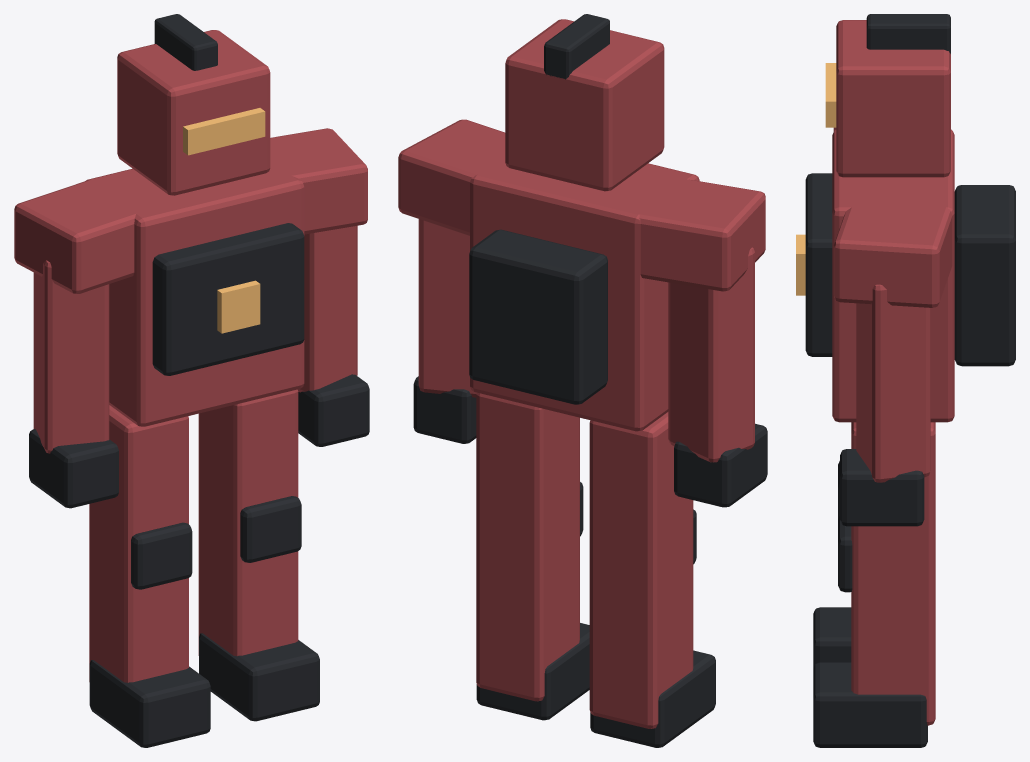
The model's file is EnemyTrooper.fbx.
3 renders of one model, left to right at view 1: azimuth 30°, elevation 25°; view 2: azimuth 150°, elevation 25°; view 3: azimuth 270°, elevation 25°, orthographic. The views are drawn at different scales.
Parts seen in each view (by area): view 1: Torso, LegR, LegL, Head, ChestPlate, ArmL, PauldronL, ArmR, BootL, BootR, PauldronR, ClawL (+6 smaller); view 2: LegR, LegL, Torso, Backpack, Head, ArmL, PauldronL, ArmR, PauldronR, ClawL, BootL, BootR (+2 smaller); view 3: LegR, Head, ArmR, PauldronR, Backpack, Torso, BootR, ChestPlate, ClawR, Crest, BootL, KneeR (+2 smaller).
Part boxes in pixels (box(x1,y1,x2,y2)): Torso: box(86, 168, 304, 426); LegR: box(198, 389, 298, 656); LegL: box(89, 405, 188, 682); Head: box(117, 30, 270, 195); ChestPlate: box(152, 223, 304, 375); ArmL: box(33, 260, 109, 453); PauldronL: box(14, 180, 147, 293); ArmR: box(297, 225, 357, 392); BootL: box(89, 660, 210, 747); BootR: box(199, 633, 319, 721); PauldronR: box(270, 128, 367, 234); ClawL: box(29, 429, 118, 508); LegR: box(476, 392, 579, 701); LegL: box(589, 412, 693, 728); Torso: box(470, 161, 699, 431); Backpack: box(469, 229, 607, 404); Head: box(505, 19, 664, 191); ArmL: box(668, 247, 754, 462); PauldronL: box(637, 177, 765, 291); ArmR: box(418, 219, 476, 397); PauldronR: box(398, 119, 505, 235); ClawL: box(674, 423, 767, 507); BootL: box(590, 650, 715, 747); BootR: box(476, 623, 589, 720); LegR: box(851, 422, 935, 725); Head: box(836, 20, 950, 177); ArmR: box(856, 284, 930, 482); PauldronR: box(833, 200, 952, 307); Backpack: box(954, 185, 1015, 366); Torso: box(832, 129, 954, 422); BootR: box(813, 662, 927, 747); ChestPlate: box(805, 173, 832, 356); ClawR: box(840, 449, 924, 526); Crest: box(866, 14, 950, 53); BootL: box(813, 607, 851, 667); KneeR: box(838, 516, 852, 592).
Bounding box in the file's own units: 0.9925 × 1.98 × 0.575.
